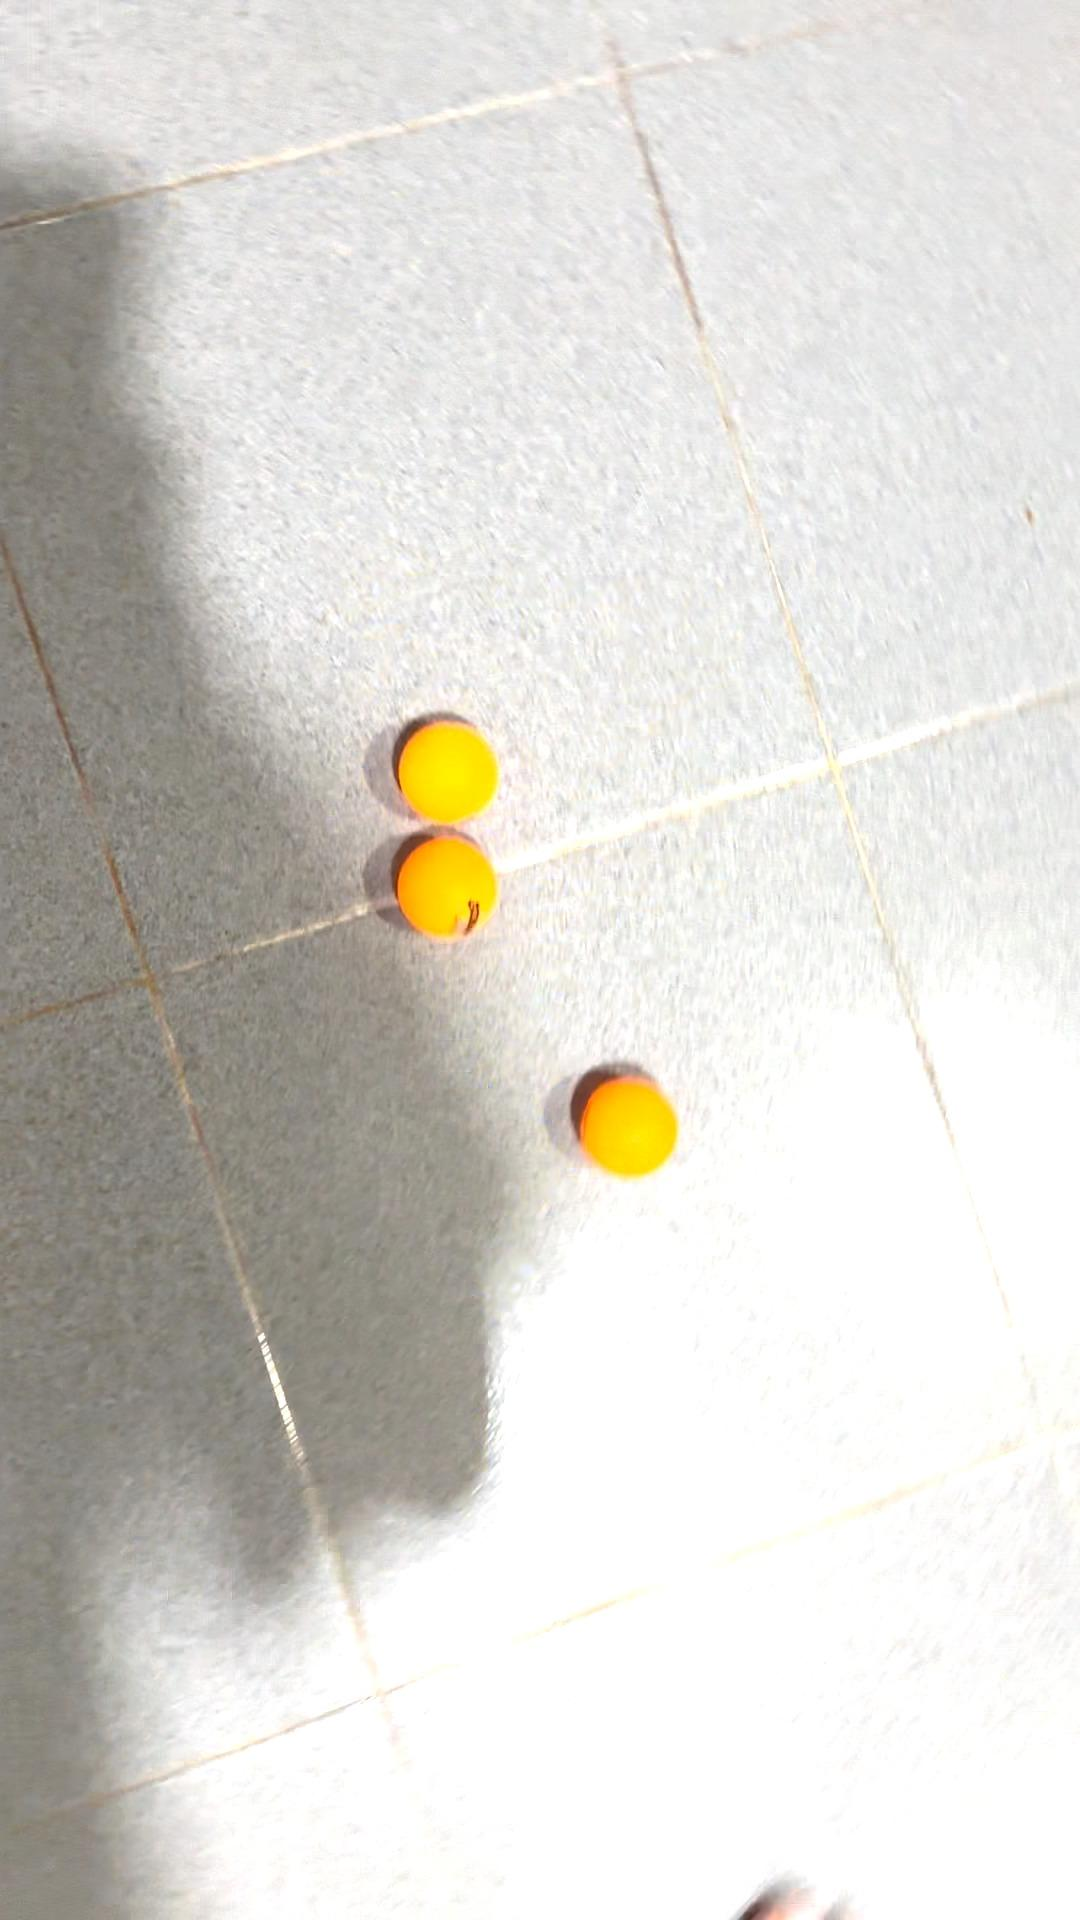oball: (384, 704, 515, 835), (568, 1054, 686, 1182), (388, 838, 513, 951)
